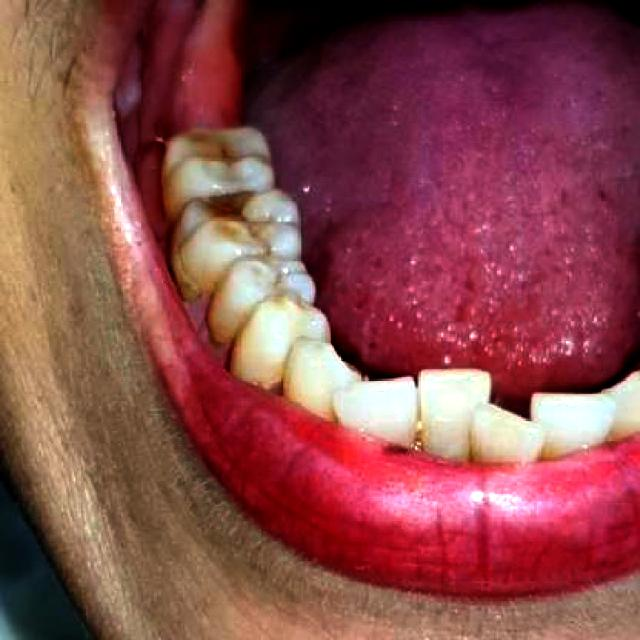Plaque: (217, 208, 274, 255), (262, 269, 295, 289), (208, 143, 237, 164)
